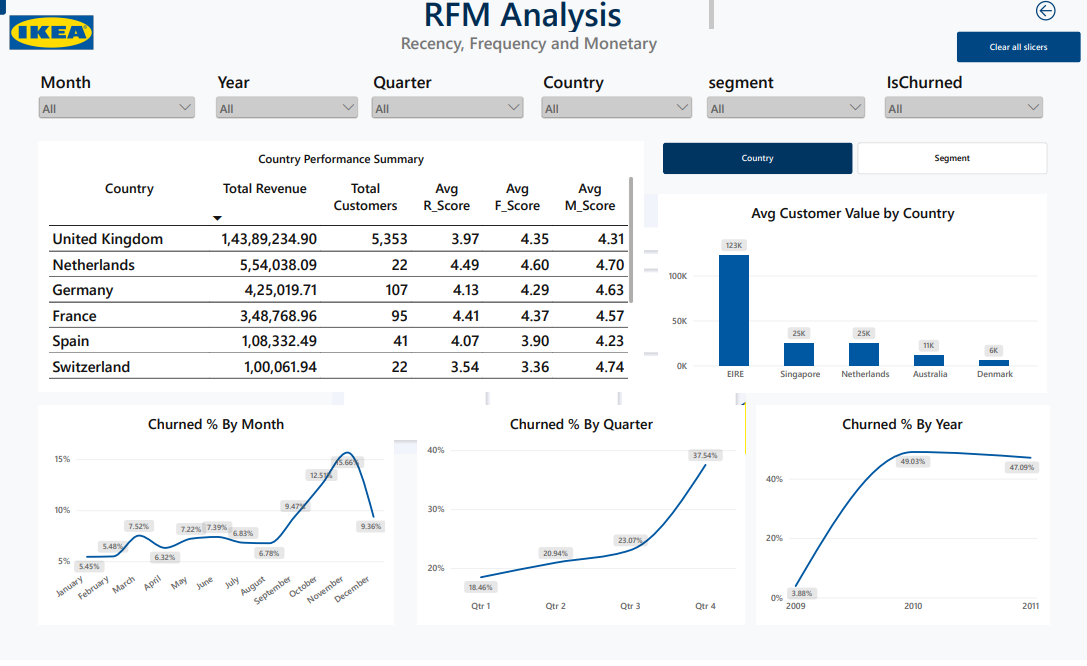

This screenshot's page, from the dashboard's own definition file:
{"tool":"powerbi","page":{"name":"RFM Analysis","canvas":[1920,1080],"ordinal":2},"visuals":[{"type":"slicer","fields":{"Values":["Sheet1.Country"]},"box":[959.1,128.8,252.9,88.3],"z":0},{"type":"tableEx","title":"Country Performance Summary","fields":{"Values":["Sheet1.Country","Sum(Sheet1.Total_revenue)","Sheet1.Total Customers","Avg(Sheet1.R_Score)","Avg(Sheet1.F_Score)","Avg(Sheet1.M_Score)"]},"box":[152.6,244.7,975.8,403.2],"z":0,"group":"g2"},{"type":"lineChart","title":"Churned % By Month","fields":{"Category":["Sheet1.InvoiceDate.Variation.Date Hierarchy.Month"],"Y":["CountNonNull(Sheet1.IsChurned)"]},"box":[152.7,669.5,572.6,353.1],"z":0,"group":"g1"},{"type":"slicer","fields":{"Values":["Sheet1.InvoiceDate.Variation.Date Hierarchy.Quarter"]},"box":[684.8,128.8,255.3,88.3],"z":1000},{"type":"columnChart","title":"Avg Customer Value by Country","fields":{"Category":["Sheet1.Country"],"Y":["Sheet1.Avg_Customer_Value"]},"box":[1152.6,328.9,627.5,319.7],"z":1000,"group":"g2"},{"type":"lineChart","title":"Churned % By Quarter","fields":{"Category":["Sheet1.InvoiceDate.Variation.Date Hierarchy.Quarter"],"Y":["CountNonNull(Sheet1.IsChurned)"]},"box":[763.5,669.5,529.7,353.1],"z":1000,"group":"g1"},{"type":"slicer","fields":{"Values":["Sheet1.InvoiceDate.Variation.Date Hierarchy.Year"]},"box":[434.2,128.8,238.6,88.3],"z":2000},{"type":"lineChart","title":"Churned % By Year","fields":{"Category":["Sheet1.InvoiceDate.Variation.Date Hierarchy.Year"],"Y":["CountNonNull(Sheet1.IsChurned)"]},"box":[1309.9,669.5,472.4,353.1],"z":2000,"group":"g1"},{"type":"slicer","fields":{"Values":["Sheet1.InvoiceDate.Variation.Date Hierarchy.Month"]},"box":[147.9,128.8,262.5,88.3],"z":3000},{"type":"slicer","fields":{"Values":["Sheet1.segment"]},"box":[1226.4,128.8,264.8,88.3],"z":4000},{"type":"slicer","fields":{"Values":["Sheet1.IsChurned"]},"box":[1512.7,128.8,264.8,88.3],"z":5000},{"type":"group","id":"g1","title":"Revenue","box":[152.7,669.5,1629.6,353.1],"z":7000},{"type":"actionButton","box":[0,0,100,40],"z":8000},{"type":"actionButton","box":[0,0,100,40],"z":9000},{"type":"bookmarkNavigator","box":[1159.6,245.7,622,51.5],"z":10000},{"type":"image","box":[85.9,0,174.2,136],"z":11000},{"type":"textbox","box":[632.3,0,610.8,66.8],"z":12000},{"type":"textbox","box":[737.2,66.8,572.6,42.9],"z":13000},{"type":"actionButton","box":[1720.2,0,114.5,66.8],"z":14000},{"type":"actionButton","box":[1634.4,66.8,200,50],"z":15000},{"type":"group","id":"g2","title":"Country","box":[152.6,244.7,1627.5,403.9],"z":17000}]}

Visuals, with their boxes on the page's 1920x1080 design canvas (x1, y1, x2, y2). These are canvas units, not pixel positions in the 1087x666 screenshot, which may show the page scaled, cropped or inside an application window:
slicer - Sheet1.Country: box=[959, 129, 1212, 217]
"Country Performance Summary" tableEx: box=[153, 245, 1128, 648]
"Churned % By Month" lineChart: box=[153, 670, 725, 1023]
slicer - Sheet1.InvoiceDate.Variation.Date Hierarchy.Quarter: box=[685, 129, 940, 217]
"Avg Customer Value by Country" columnChart: box=[1153, 329, 1780, 649]
"Churned % By Quarter" lineChart: box=[764, 670, 1293, 1023]
slicer - Sheet1.InvoiceDate.Variation.Date Hierarchy.Year: box=[434, 129, 673, 217]
"Churned % By Year" lineChart: box=[1310, 670, 1782, 1023]
slicer - Sheet1.InvoiceDate.Variation.Date Hierarchy.Month: box=[148, 129, 410, 217]
slicer - Sheet1.segment: box=[1226, 129, 1491, 217]
slicer - Sheet1.IsChurned: box=[1513, 129, 1778, 217]
"Revenue" group: box=[153, 670, 1782, 1023]
actionButton: box=[0, 0, 100, 40]
actionButton: box=[0, 0, 100, 40]
bookmarkNavigator: box=[1160, 246, 1782, 297]
image: box=[86, 0, 260, 136]
textbox: box=[632, 0, 1243, 67]
textbox: box=[737, 67, 1310, 110]
actionButton: box=[1720, 0, 1835, 67]
actionButton: box=[1634, 67, 1834, 117]
"Country" group: box=[153, 245, 1780, 649]
